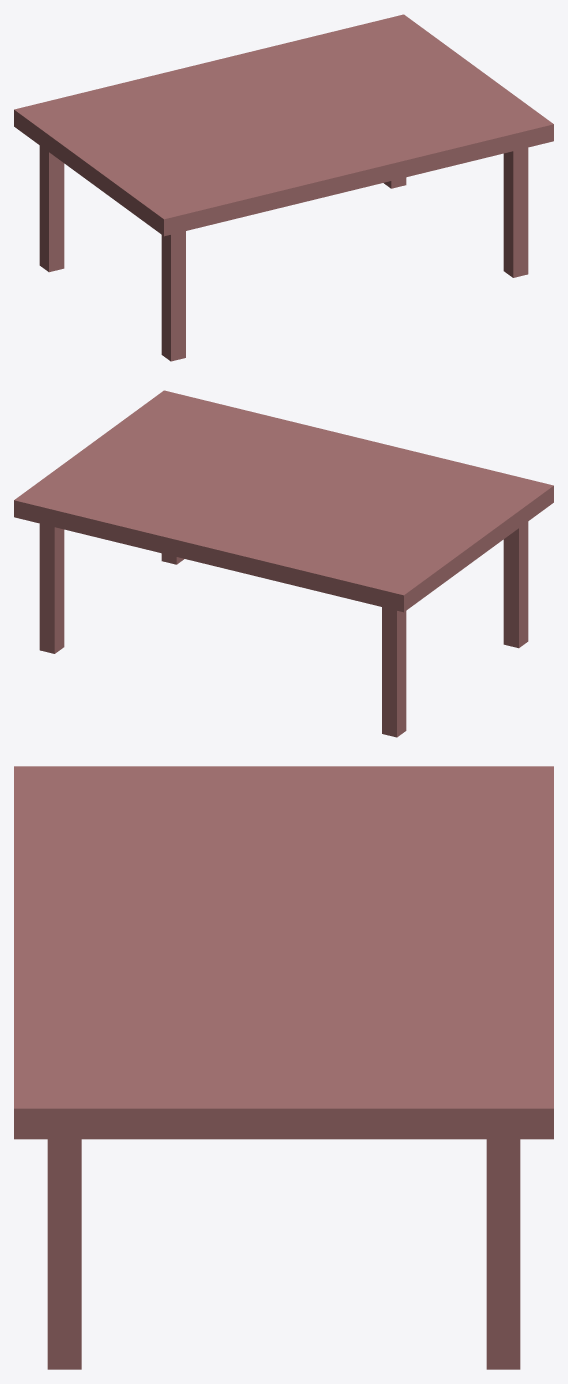
File: table.fbx
3 views of the same model, one above another, from view 1: azimuth 30°, elevation 25°; view 2: azimuth 150°, elevation 25°; view 3: azimuth 270°, elevation 25° (orthographic). The views are drawn at different scales.
Visible parts, largest first — view 1: Cube; view 2: Cube; view 3: Cube.
Boxes of the visible parts, <box> form: Cube: <box>14,14,553,361</box>; Cube: <box>14,390,553,737</box>; Cube: <box>14,766,553,1369</box>.
Bounding box in the file's own units: 1200 × 450 × 800.
